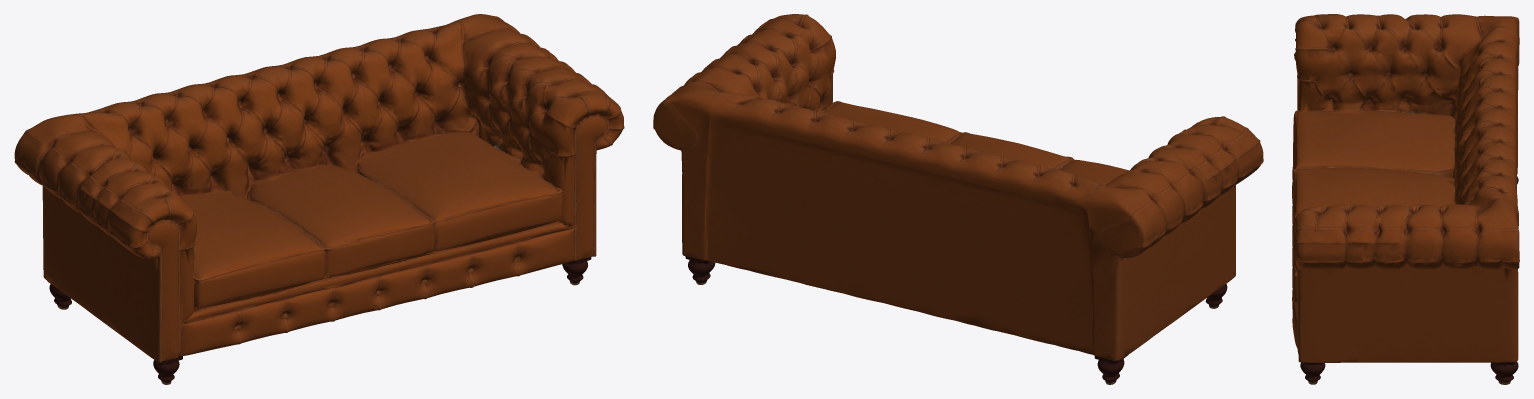
File: chesterfield.glb
3 renders of one model, left to right at view 1: azimuth 30°, elevation 25°; view 2: azimuth 150°, elevation 25°; view 3: azimuth 270°, elevation 25°, orthographic. The views are drawn at different scales.
Visible parts, largest first — view 1: Chesterfield; view 2: Chesterfield; view 3: Chesterfield.
Boxes of the visible parts, x1,y1,x2,y2 form: Chesterfield: [14, 14, 624, 384]; Chesterfield: [653, 14, 1263, 384]; Chesterfield: [1292, 14, 1519, 384].
Size of the model in its own units: 2.1 by 0.78 by 0.9.
1 material, 1 textured.
